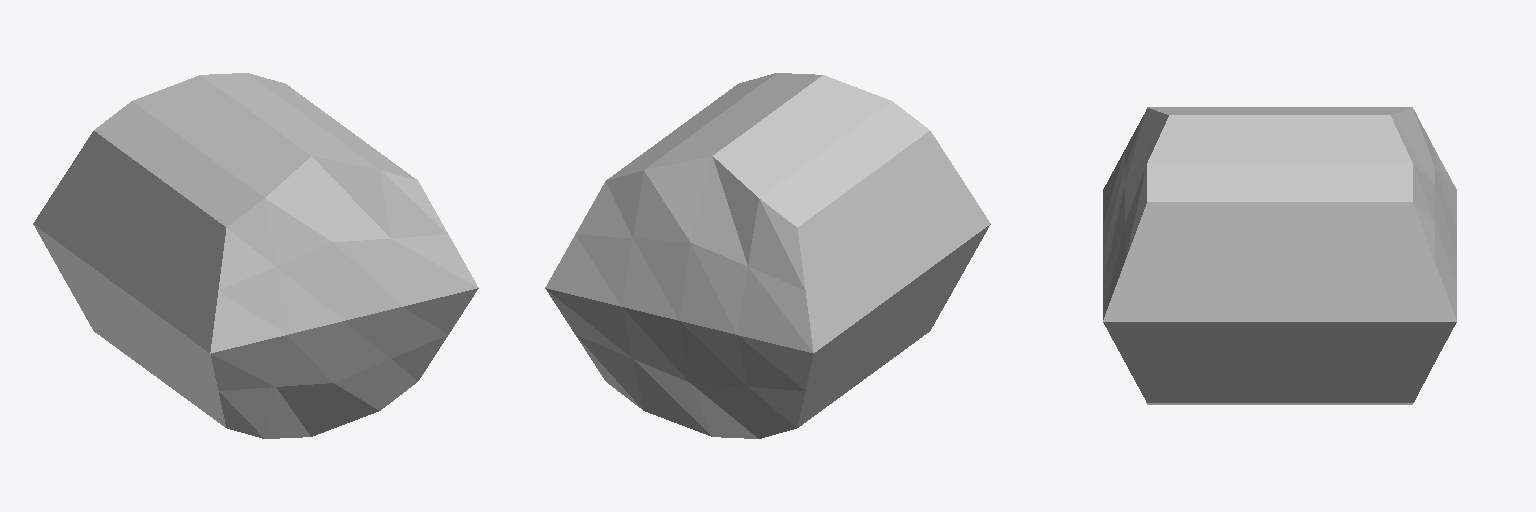
File: example.obj
The picture shows the model from 3 angles: view 1: azimuth 30°, elevation 25°; view 2: azimuth 150°, elevation 25°; view 3: azimuth 270°, elevation 25°; orthographic projection.
Visible parts, largest first — view 1: Cube; view 2: Cube; view 3: Cube.
Boxes of the visible parts, box(x1,y1,x2,y2) form: Cube: box(33, 73, 478, 438); Cube: box(545, 73, 990, 438); Cube: box(1103, 107, 1456, 404).
Bounding box in the file's own units: 2.8 × 2.8 × 3.2.